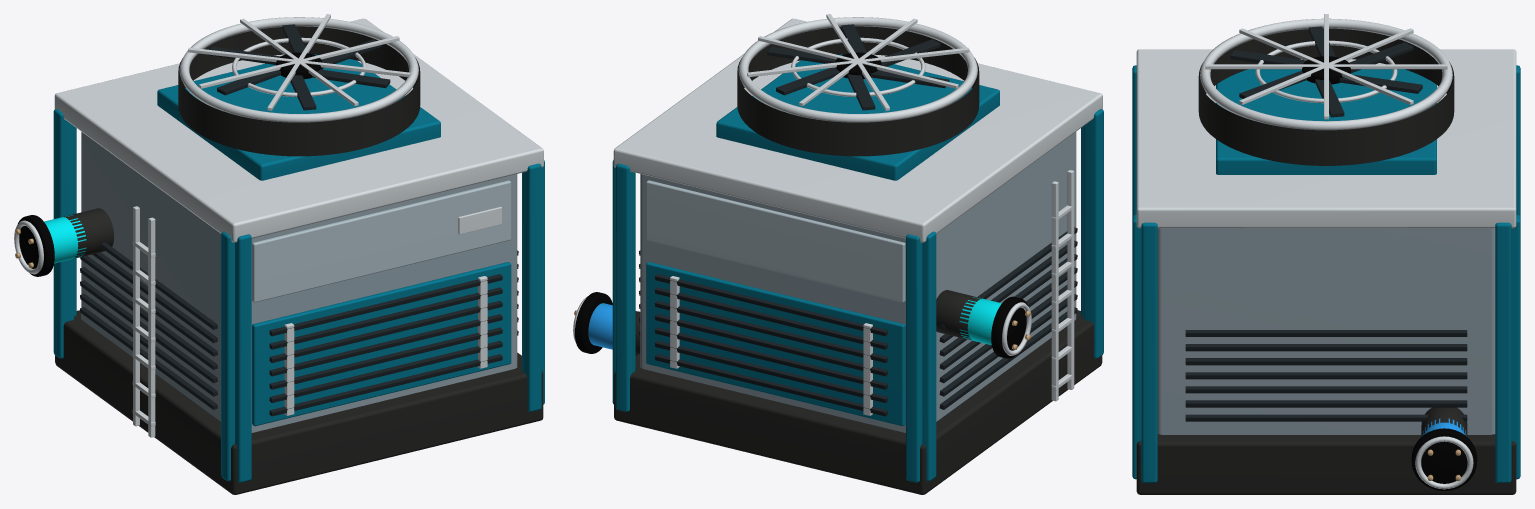
Rendered from cooling-tower.glb.
3 renders of one model, left to right at view 1: azimuth 30°, elevation 25°; view 2: azimuth 150°, elevation 25°; view 3: azimuth 270°, elevation 25°, orthographic. The views are drawn at different scales.
Parts seen in each view (by area): view 1: top fan maintenance deck, square cooling tower casing, dark cold water collection basin, front lower louver frame band, front upper distribution access panel, large top fan shroud sidewall, raised fan curb, top fan polished intake lip, tower opposite side blue corner rail -1.13, tower side blue corner rail -1.13, tower rear blue corner upright -1.13, tower blue corner upright -1.13 (+32 smaller); view 2: top fan maintenance deck, dark cold water collection basin, square cooling tower casing, rear lower louver frame band, rear upper distribution access panel, large top fan shroud sidewall, raised fan curb, top fan polished intake lip, tower opposite side blue corner rail 1.13, tower blue corner upright -1.13, tower side blue corner rail 1.13, tower rear blue corner upright -1.13 (+33 smaller); view 3: square cooling tower casing, top fan maintenance deck, dark cold water collection basin, large top fan shroud sidewall, raised fan curb, top fan polished intake lip, tower blue corner upright 1.13, tower rear blue corner upright 1.13, cooling out dark flange, tower opposite side blue corner rail -1.13, tower opposite side blue corner rail 1.13, right side intake louver 2 (+21 smaller).
Boxes of the visible parts, box(x1,y1,x2,y2) form: top fan maintenance deck: box(54, 18, 543, 242); square cooling tower casing: box(81, 132, 517, 432); dark cold water collection basin: box(55, 310, 543, 494); front lower louver frame band: box(252, 262, 511, 426); front upper distribution access panel: box(252, 180, 511, 302); large top fan shroud sidewall: box(178, 26, 420, 156); raised fan curb: box(157, 54, 440, 180); top fan polished intake lip: box(179, 17, 418, 122); tower opposite side blue corner rail -1.13: box(522, 163, 541, 411); tower side blue corner rail -1.13: box(235, 234, 251, 482); tower rear blue corner upright -1.13: box(53, 109, 73, 358); tower blue corner upright -1.13: box(221, 231, 234, 481); top fan maintenance deck: box(613, 18, 1102, 242); dark cold water collection basin: box(614, 310, 1102, 494); square cooling tower casing: box(640, 132, 1076, 432); rear lower louver frame band: box(646, 262, 905, 426); rear upper distribution access panel: box(646, 180, 905, 302); large top fan shroud sidewall: box(737, 26, 979, 156); raised fan curb: box(716, 54, 999, 180); top fan polished intake lip: box(738, 17, 977, 122); tower opposite side blue corner rail 1.13: box(615, 163, 635, 411); tower blue corner upright -1.13: box(1083, 109, 1103, 358); tower side blue corner rail 1.13: box(906, 234, 922, 482); tower rear blue corner upright -1.13: box(922, 231, 936, 481); square cooling tower casing: box(1157, 228, 1495, 434); top fan maintenance deck: box(1136, 49, 1516, 228); dark cold water collection basin: box(1136, 434, 1516, 494); large top fan shroud sidewall: box(1198, 28, 1454, 165); raised fan curb: box(1216, 69, 1436, 174); top fan polished intake lip: box(1200, 18, 1452, 130); tower blue corner upright 1.13: box(1141, 222, 1157, 482); tower rear blue corner upright 1.13: box(1495, 222, 1511, 482); cooling out dark flange: box(1411, 428, 1477, 490); tower opposite side blue corner rail -1.13: box(1132, 215, 1141, 479); tower opposite side blue corner rail 1.13: box(1511, 215, 1520, 479); right side intake louver 2: box(1185, 386, 1467, 393).
Size of the model in its own units: 3.28 by 2.39 by 2.37.
